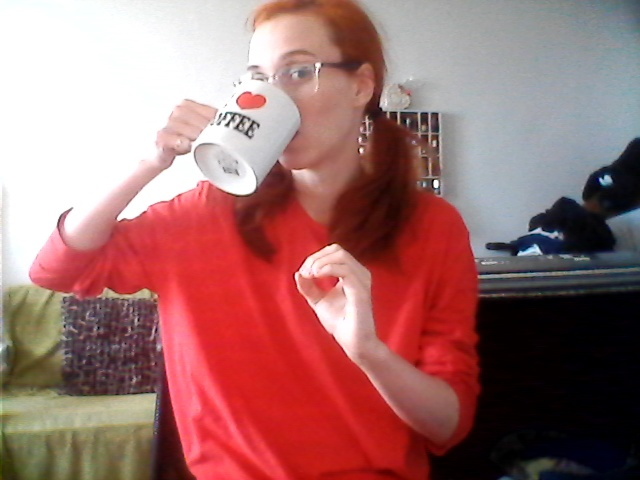o: (277, 231, 392, 350)
